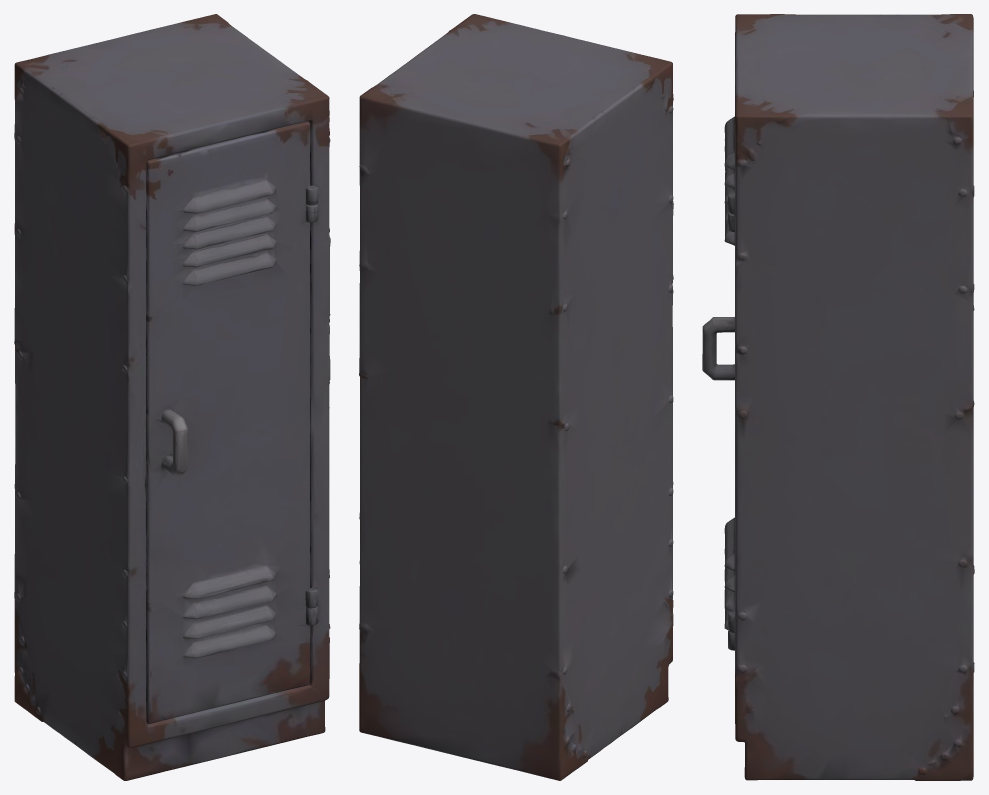
File: locker_metal_sportivnyy.glb
The picture shows the model from 3 angles, left to right: view 1: azimuth 30°, elevation 25°; view 2: azimuth 150°, elevation 25°; view 3: azimuth 270°, elevation 25°; orthographic projection. The views are drawn at different scales.
Visible parts, largest first — view 1: body, door; view 2: body; view 3: body, door.
Part boxes in pixels (<box>): body: <box>14,14,330,780</box>; door: <box>146,130,314,731</box>; body: <box>359,14,673,780</box>; body: <box>728,14,974,780</box>; door: <box>702,116,735,695</box>.
Size of the model in its own units: 0.6034 by 1.8 by 0.6668.
Materials: 11 (3 with a texture image).
